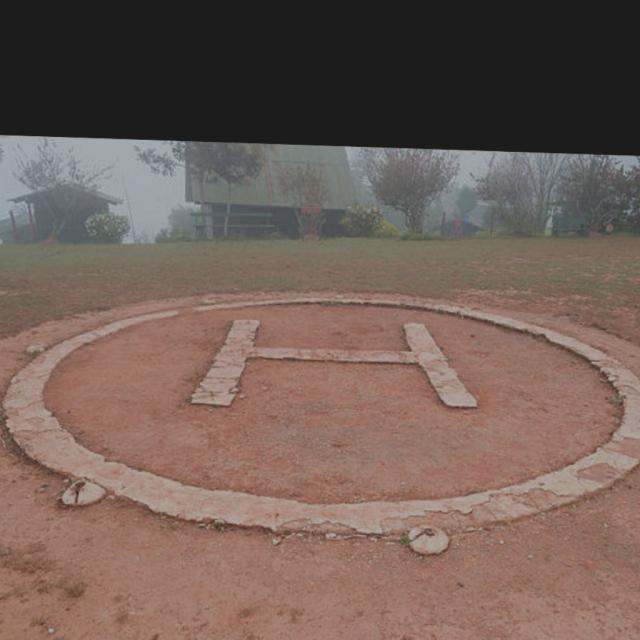helipad: (0, 291, 639, 538)
